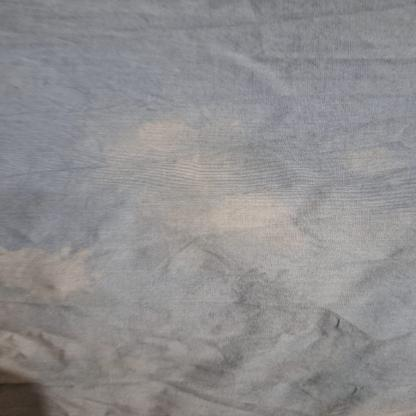spot: (90, 102, 333, 253), (4, 230, 109, 303), (332, 138, 412, 186)
